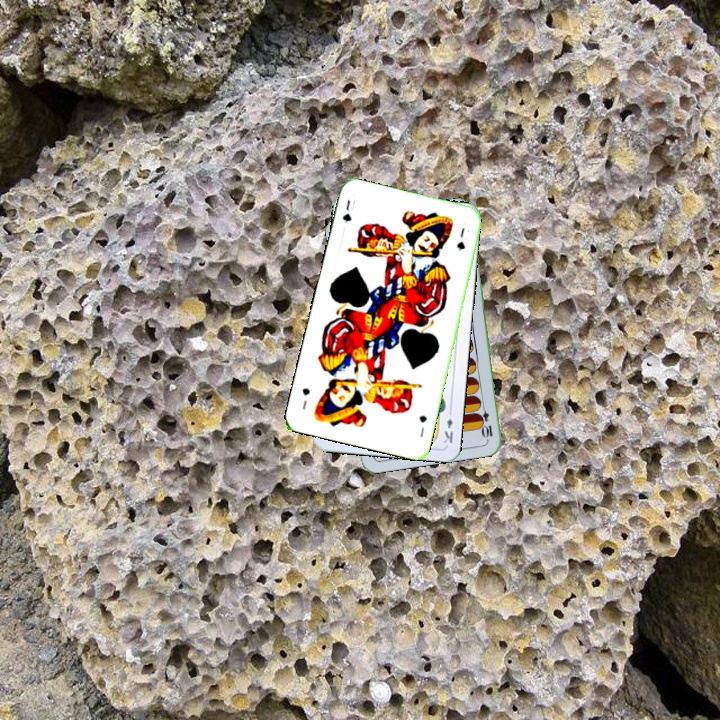E10: (477, 400, 495, 440)
EK: (440, 405, 456, 446)
GU: (338, 196, 358, 226), (415, 411, 430, 440)
